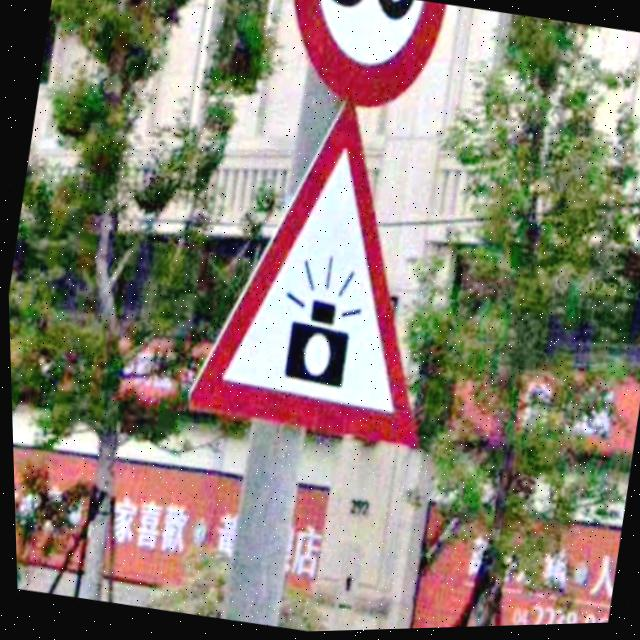speedcamera: (185, 100, 415, 453)
